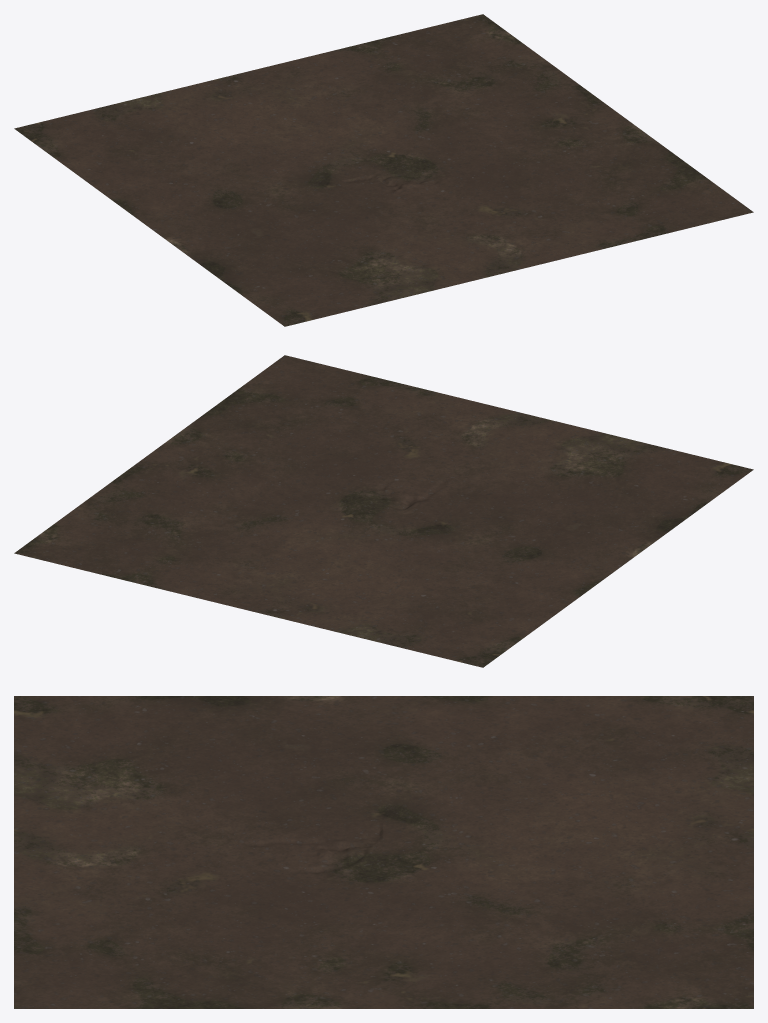
Rendered from SM_TerrainMesh.fbx.
3 renders of one model, top to bottom at view 1: azimuth 30°, elevation 25°; view 2: azimuth 150°, elevation 25°; view 3: azimuth 270°, elevation 25°, orthographic. The views are drawn at different scales.
Visible parts, largest first — view 1: SM_TerrainMesh; view 2: SM_TerrainMesh; view 3: SM_TerrainMesh.
Boxes of the visible parts, x1,y1,x2,y2 form: SM_TerrainMesh: (14,14,753,326); SM_TerrainMesh: (14,355,753,667); SM_TerrainMesh: (14,696,753,1008).
Bounding box in the file's own units: 25384 × 25384 × 193.
